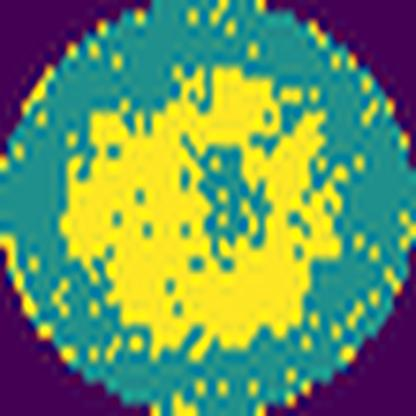Donut: (55, 60, 358, 366)
